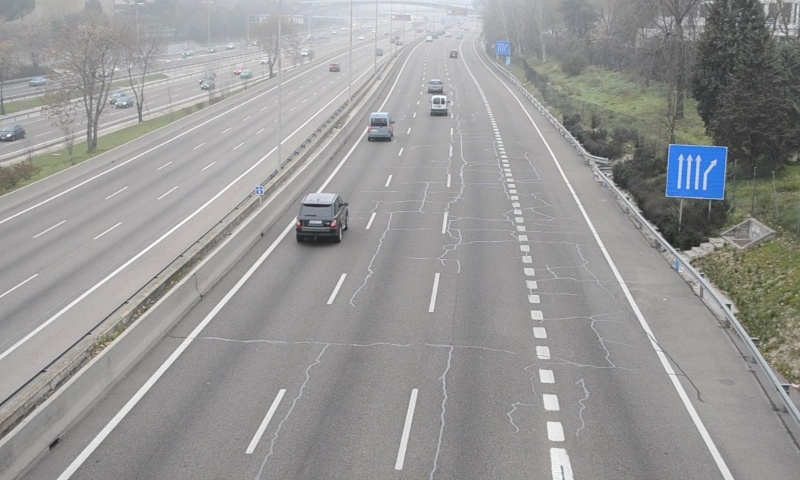car: (296, 194, 348, 239)
van: (367, 112, 394, 140), (429, 93, 448, 117)
